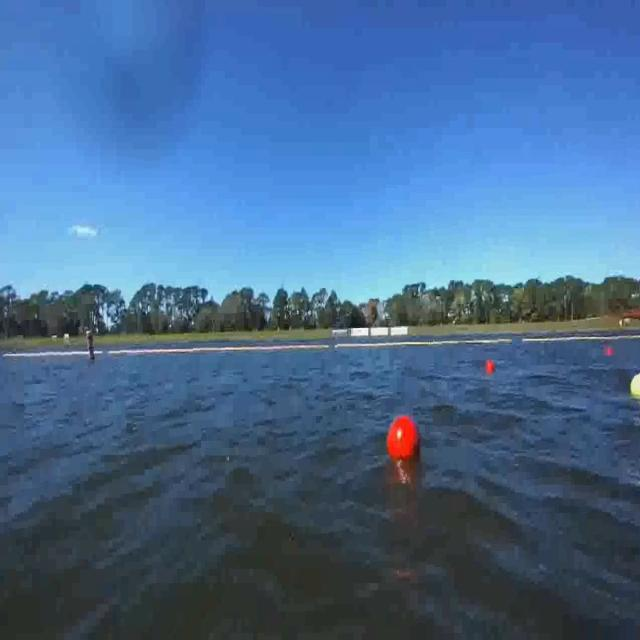red-buoy: (387, 416, 420, 464), (486, 359, 496, 375), (605, 347, 613, 357)
yellow-buoy: (630, 375, 640, 401)
